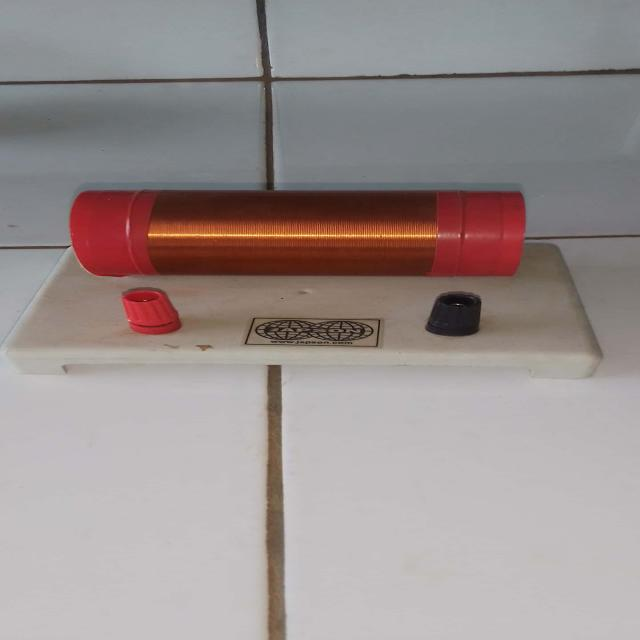Solenoid: (15, 173, 640, 390)
